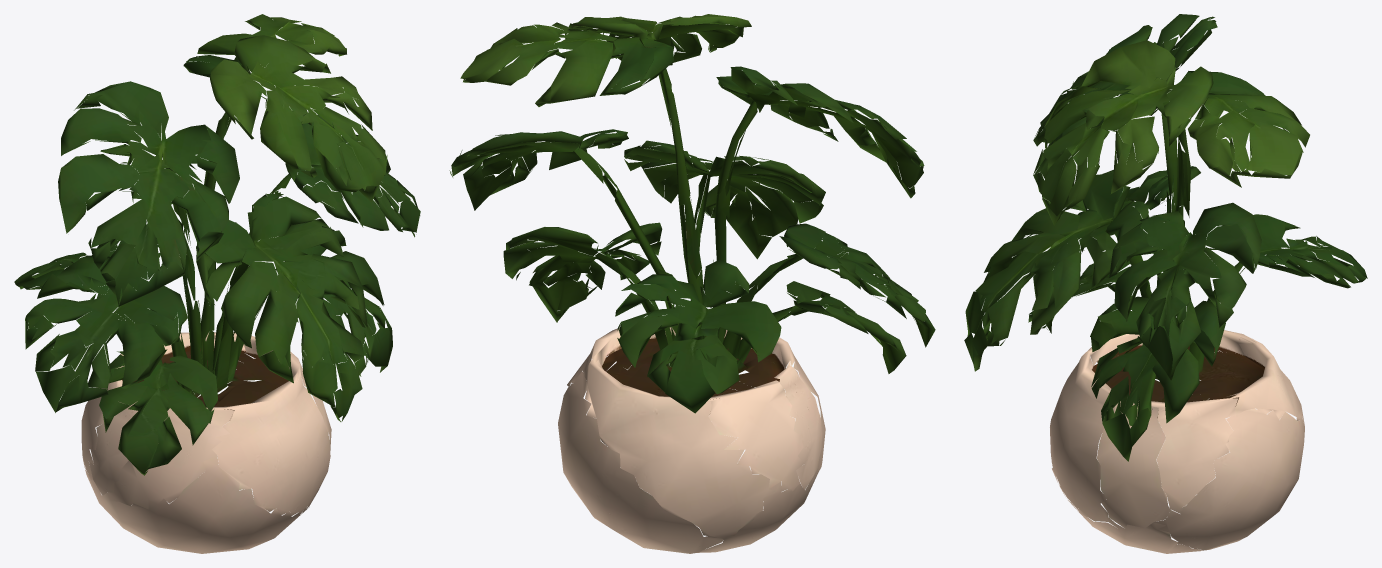
The model's file is monstera_plant.glb.
3 views of the same model, side by side, from view 1: azimuth 30°, elevation 25°; view 2: azimuth 150°, elevation 25°; view 3: azimuth 270°, elevation 25° (orthographic). The views are drawn at different scales.
Visible parts, largest first — view 1: tripo_node_48988288-6644-4820-ba25-0682d5f0439a; view 2: tripo_node_48988288-6644-4820-ba25-0682d5f0439a; view 3: tripo_node_48988288-6644-4820-ba25-0682d5f0439a.
Part boxes in pixels (left/top/right/bottom): tripo_node_48988288-6644-4820-ba25-0682d5f0439a: left=14, top=14, right=420, bottom=553; tripo_node_48988288-6644-4820-ba25-0682d5f0439a: left=449, top=14, right=935, bottom=553; tripo_node_48988288-6644-4820-ba25-0682d5f0439a: left=964, top=14, right=1367, bottom=553.
Size of the model in its own units: 0.8753 by 0.95 by 0.7276.
1 material, 1 textured.
